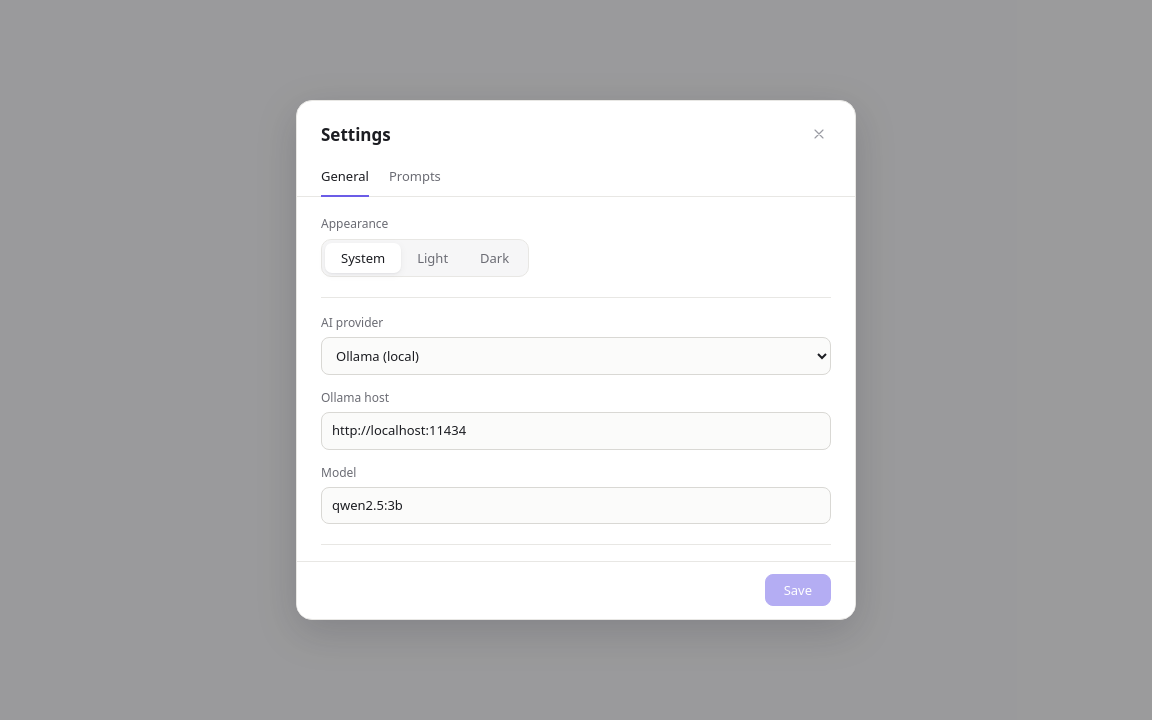
Scenario: SettingsDialog › saves an edited model only when Save is clicked
Expected: the button "Save" is disabled, [765,574,831,606]
Type "qwen3:4b" into the field showing "qwen2.5:3b" at (576, 505), box [321,486,831,524]
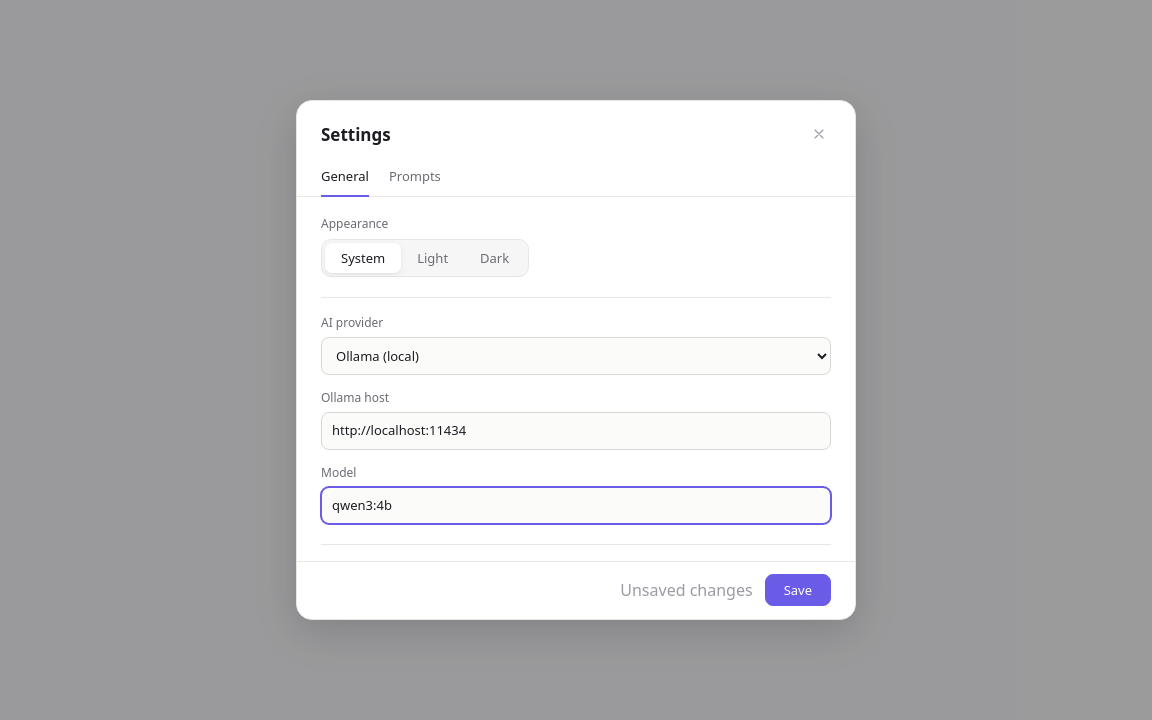
Result: the message reads "Unsaved changes" at [620,579,753,601]
Click the button "Save" at (798, 590), box [765,574,831,606]
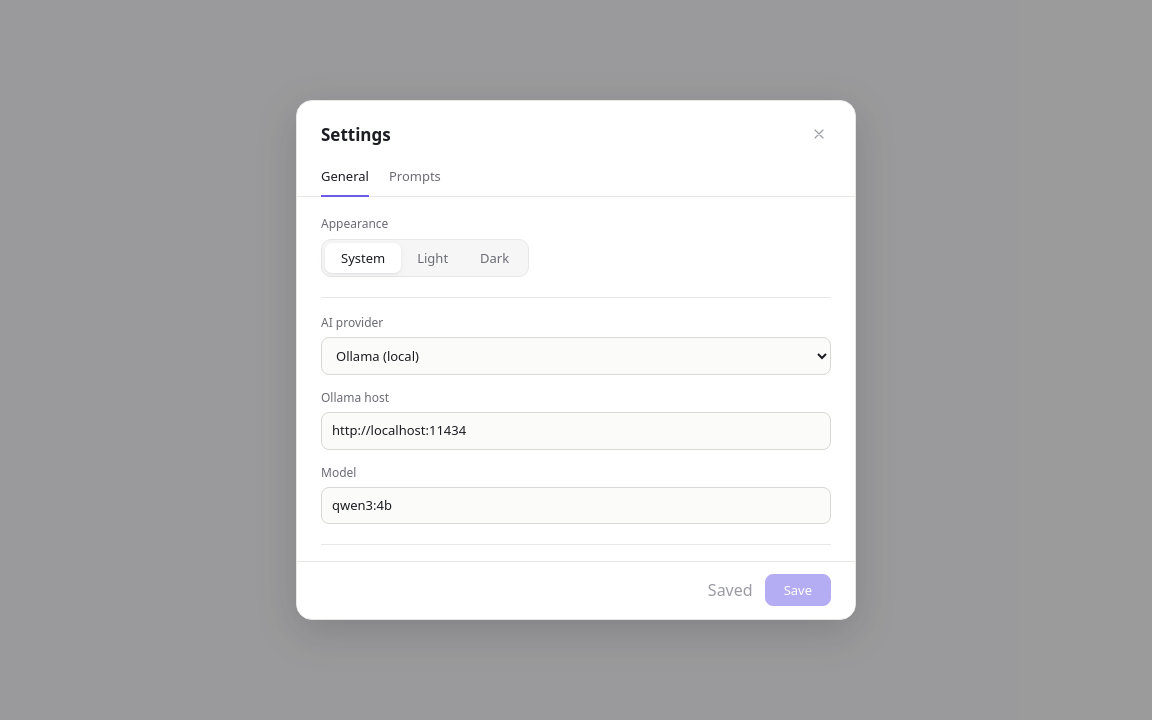
Result: the message reads "Saved" at [708,579,753,601]
Result: the button "Save" is disabled at [765,574,831,606]
